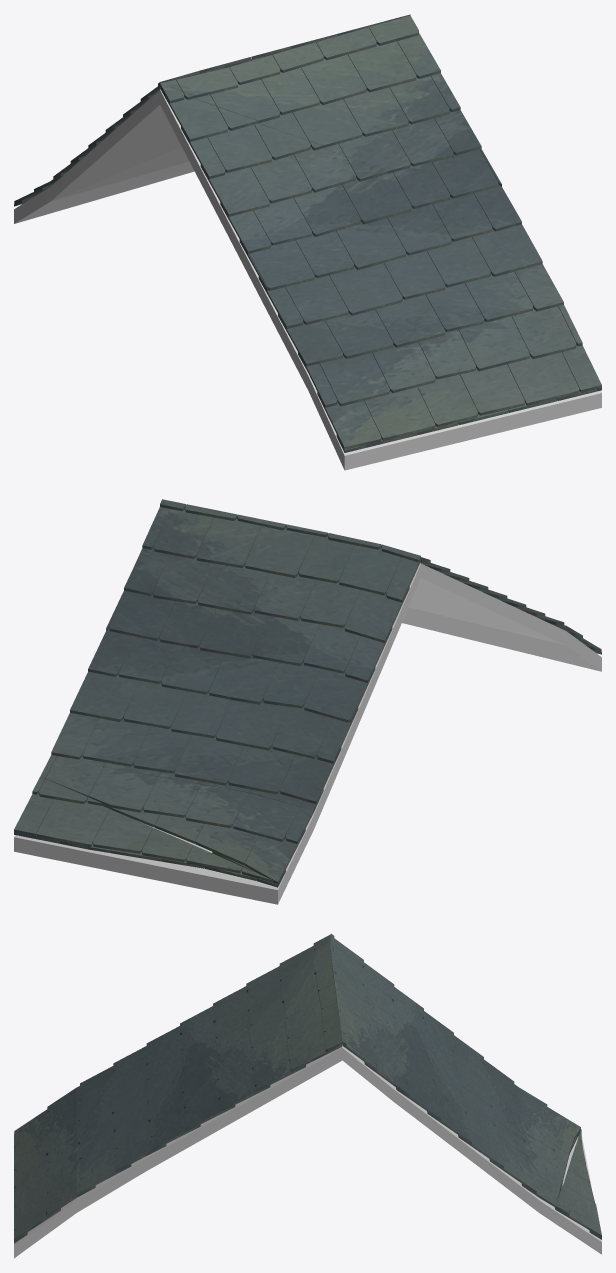
Rendered from CM_SlateRoofKit01_Fitted_SubordinateCross.fbx.
3 views of the same model, one above another, from view 1: azimuth 30°, elevation 25°; view 2: azimuth 150°, elevation 25°; view 3: azimuth 270°, elevation 25° (orthographic). The views are drawn at different scales.
Visible parts, largest first — view 1: CM_SlateRoofKit01_Fitted_SubordinateCross_Slate, CM_SlateRoofKit01_Fitted_SubordinateCross_Underlay; view 2: CM_SlateRoofKit01_Fitted_SubordinateCross_Slate, CM_SlateRoofKit01_Fitted_SubordinateCross_Underlay; view 3: CM_SlateRoofKit01_Fitted_SubordinateCross_Slate, CM_SlateRoofKit01_Fitted_SubordinateCross_Underlay.
Boxes of the visible parts, bbox=[...] form: CM_SlateRoofKit01_Fitted_SubordinateCross_Slate: bbox=[14, 14, 601, 452]; CM_SlateRoofKit01_Fitted_SubordinateCross_Underlay: bbox=[14, 89, 601, 470]; CM_SlateRoofKit01_Fitted_SubordinateCross_Slate: bbox=[14, 499, 601, 887]; CM_SlateRoofKit01_Fitted_SubordinateCross_Underlay: bbox=[14, 563, 601, 904]; CM_SlateRoofKit01_Fitted_SubordinateCross_Slate: bbox=[14, 933, 601, 1243]; CM_SlateRoofKit01_Fitted_SubordinateCross_Underlay: bbox=[14, 1044, 601, 1258].
Size of the model in its own units: 1.82 by 1.73 by 4.2.
